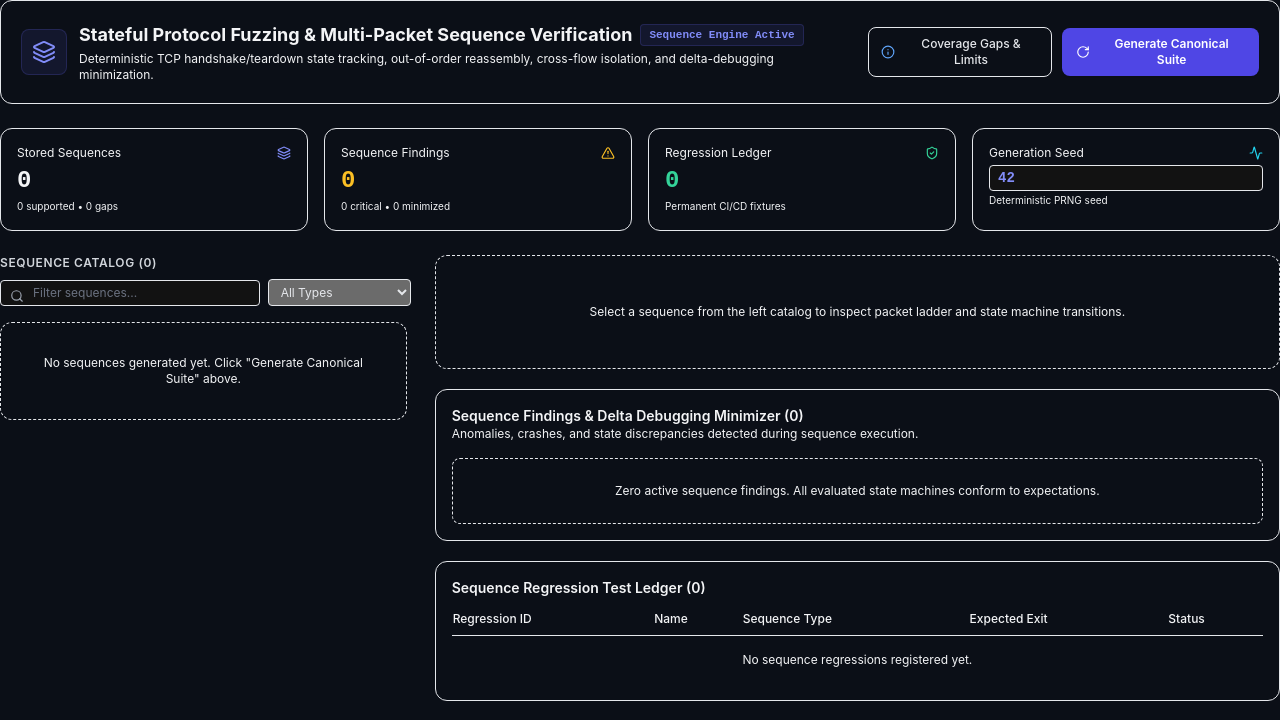
Test: StatefulSequenceWorkbench Component › opens and closes coverage gaps and limitations modal
The image size is (1280, 720).
Click the button "Coverage Gaps & Limits" at (960, 52), box [868,27,1052,77]
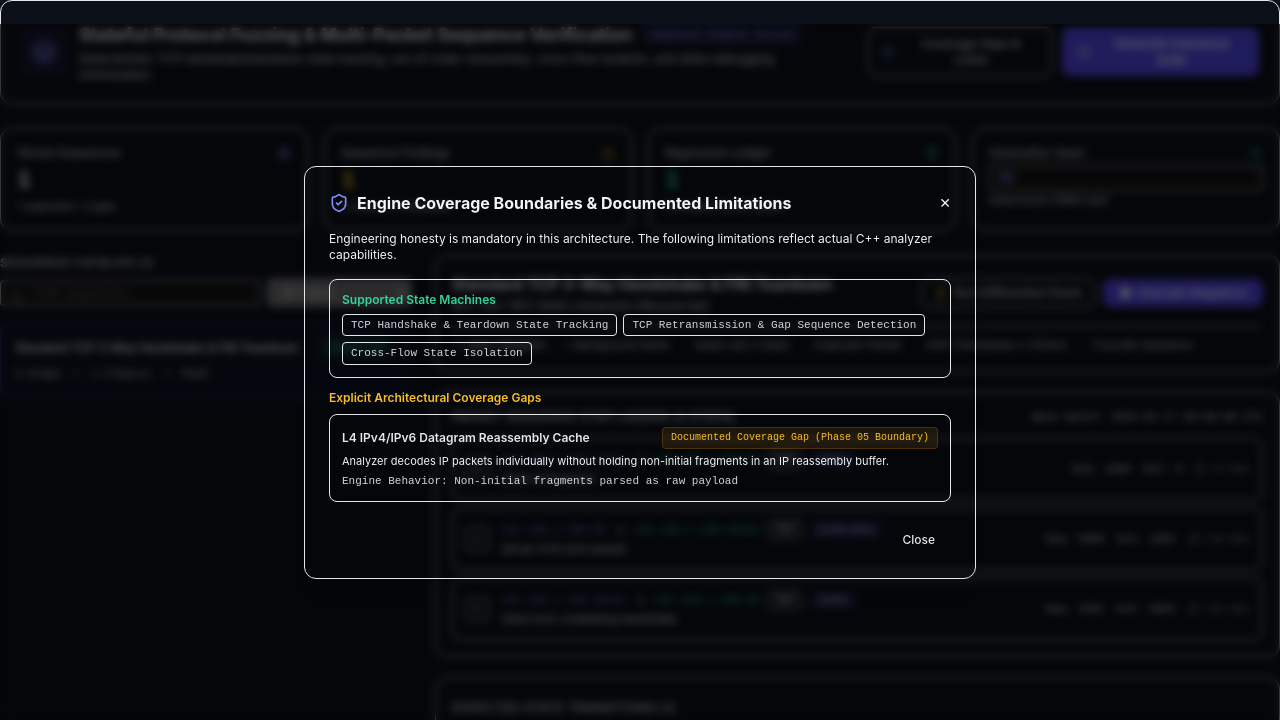
Check: the heading "Engine Coverage Boundaries & Documented Limitations" is shown, box [357,190,792,214]
Check: the text "L4 IPv4/IPv6 Datagram Reassembly Cache" is shown, box [342,430,590,446]
Check: the text "Documented Coverage Gap (Phase 05 Boundary)" is shown, box [662,426,938,448]
Click the button "Close" at (919, 540), box [886,526,951,554]
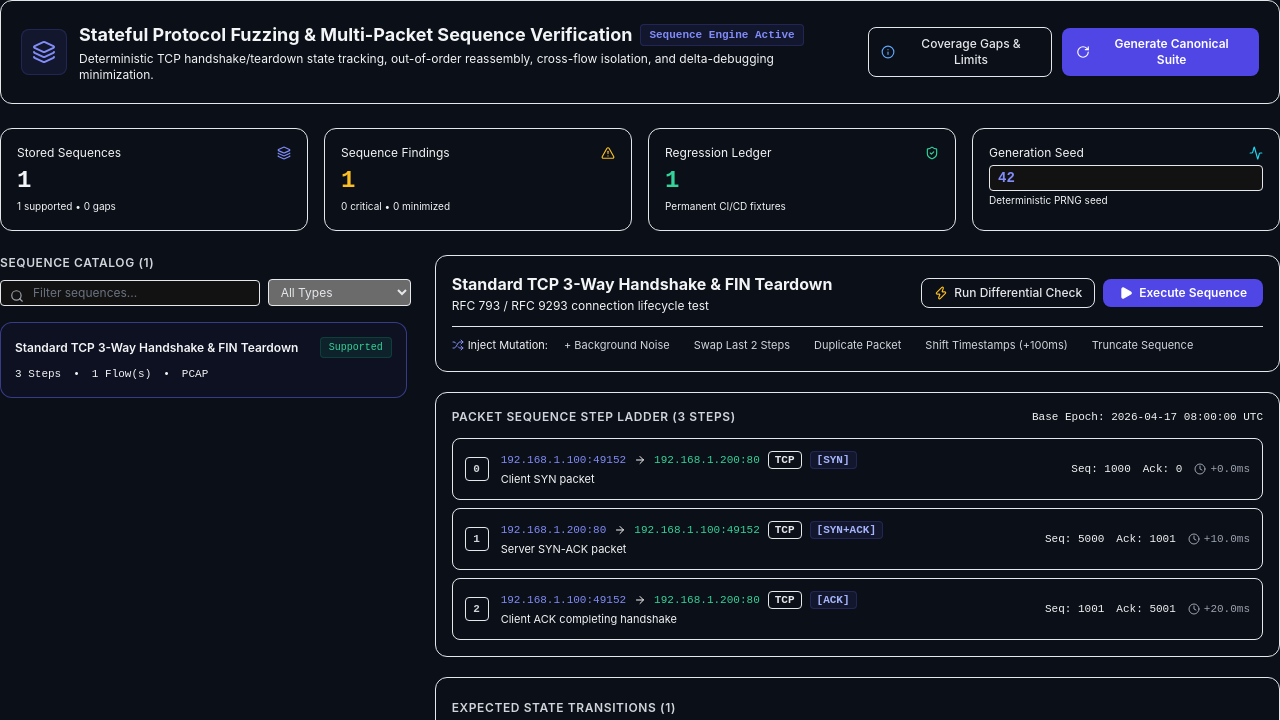
Check: the heading "Engine Coverage Boundaries & Documented Limitations" is gone
